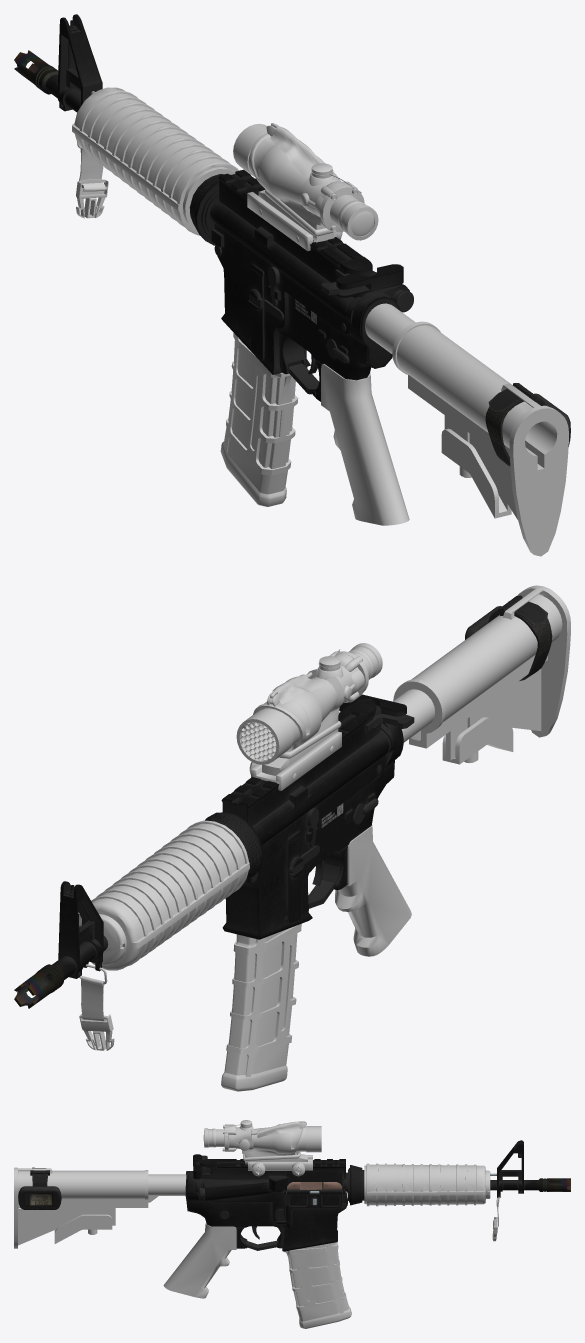
3 views of the same model, one above another, from view 1: azimuth 30°, elevation 25°; view 2: azimuth 150°, elevation 25°; view 3: azimuth 270°, elevation 25° (orthographic). The views are drawn at different scales.
Visible parts, largest first — view 1: ar15, acog, magazine, gps, ar15.005, belt; view 2: ar15, acog, magazine, belt, gps, ar15.005; view 3: ar15, acog, magazine, gps, dust cover, bolt carrier, ar15.005.
Part boxes in pixels (box(x1,y1,x2,y2)): ar15: box(14, 14, 568, 556); acog: box(233, 123, 378, 251); magazine: box(220, 332, 298, 506); gps: box(485, 383, 570, 466); ar15.005: box(321, 264, 403, 297); belt: box(76, 141, 108, 218); ar15: box(14, 585, 570, 1008); acog: box(236, 643, 382, 790); magazine: box(221, 923, 301, 1091); belt: box(79, 964, 114, 1050); gps: box(465, 595, 552, 680); ar15.005: box(339, 694, 414, 730); ar15: box(14, 1140, 570, 1298); acog: box(203, 1120, 321, 1176); magazine: box(283, 1242, 351, 1328); gps: box(18, 1167, 61, 1209); dust cover: box(287, 1191, 342, 1207); bolt carrier: box(287, 1182, 342, 1189); ar15.005: box(193, 1154, 211, 1179).
Size of the model in its own units: 0.6808 by 2.76 by 6.79.
